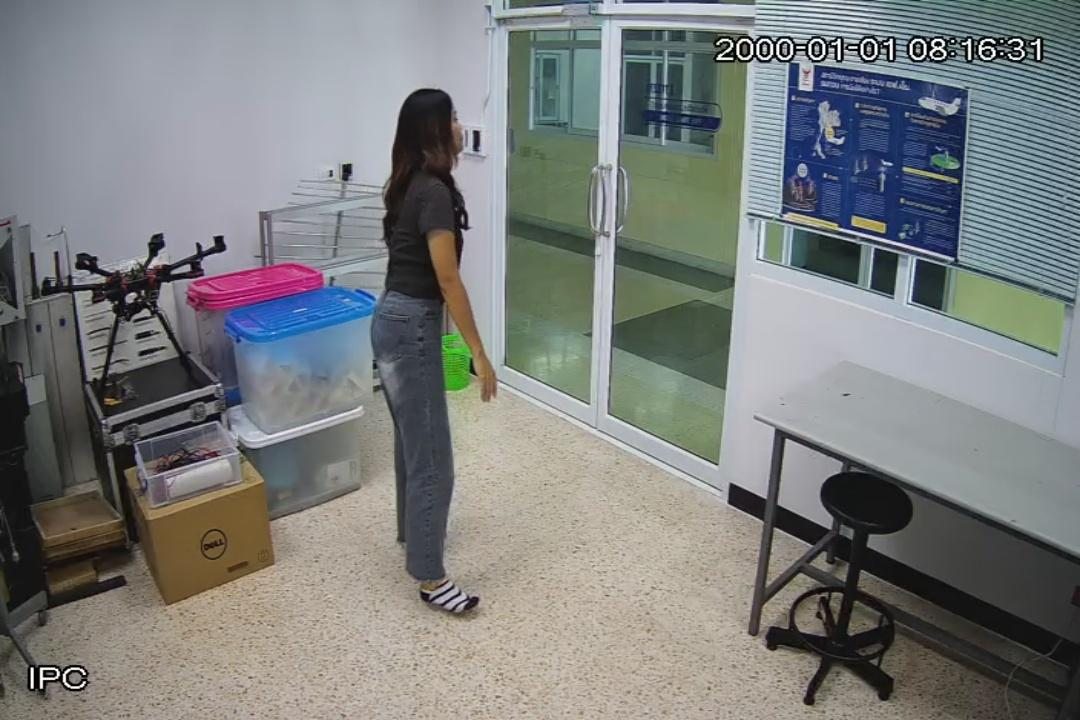normal: (371, 87, 497, 618)
